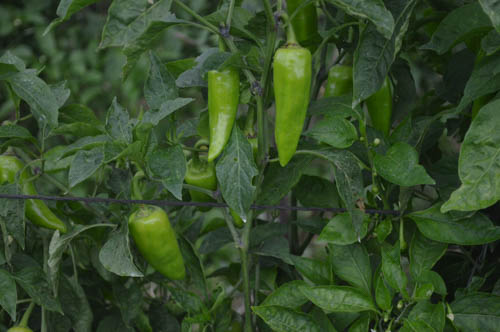ChiliPepper: (1, 154, 72, 235), (123, 205, 191, 286), (271, 39, 314, 164), (199, 65, 242, 167), (181, 150, 221, 216), (363, 74, 397, 145), (278, 1, 327, 49), (317, 57, 358, 101), (227, 203, 246, 232)
